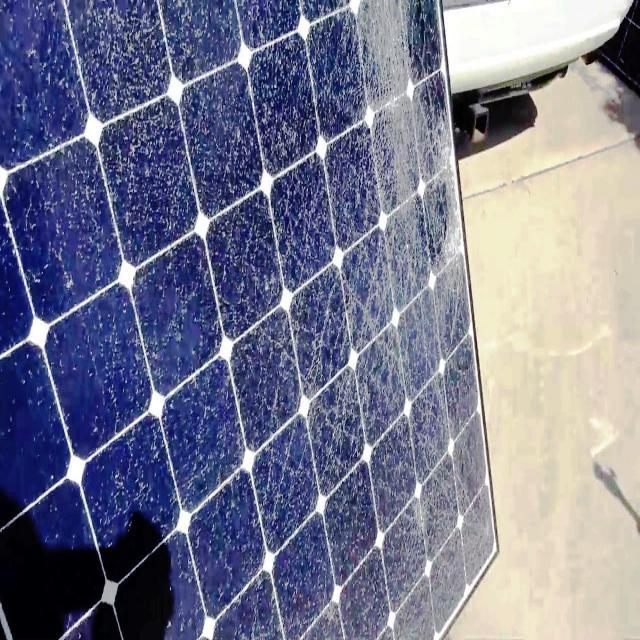faulty: (1, 7, 500, 640)
